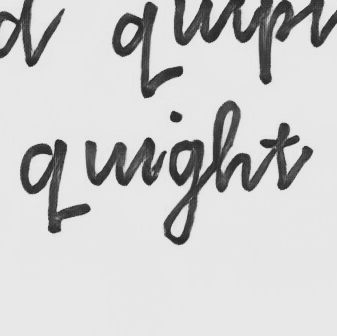g: (156, 136, 207, 246)
h: (208, 99, 253, 195)
i: (134, 131, 162, 188)
q: (17, 137, 72, 237)
t: (258, 120, 315, 191)
u: (79, 136, 131, 189)
